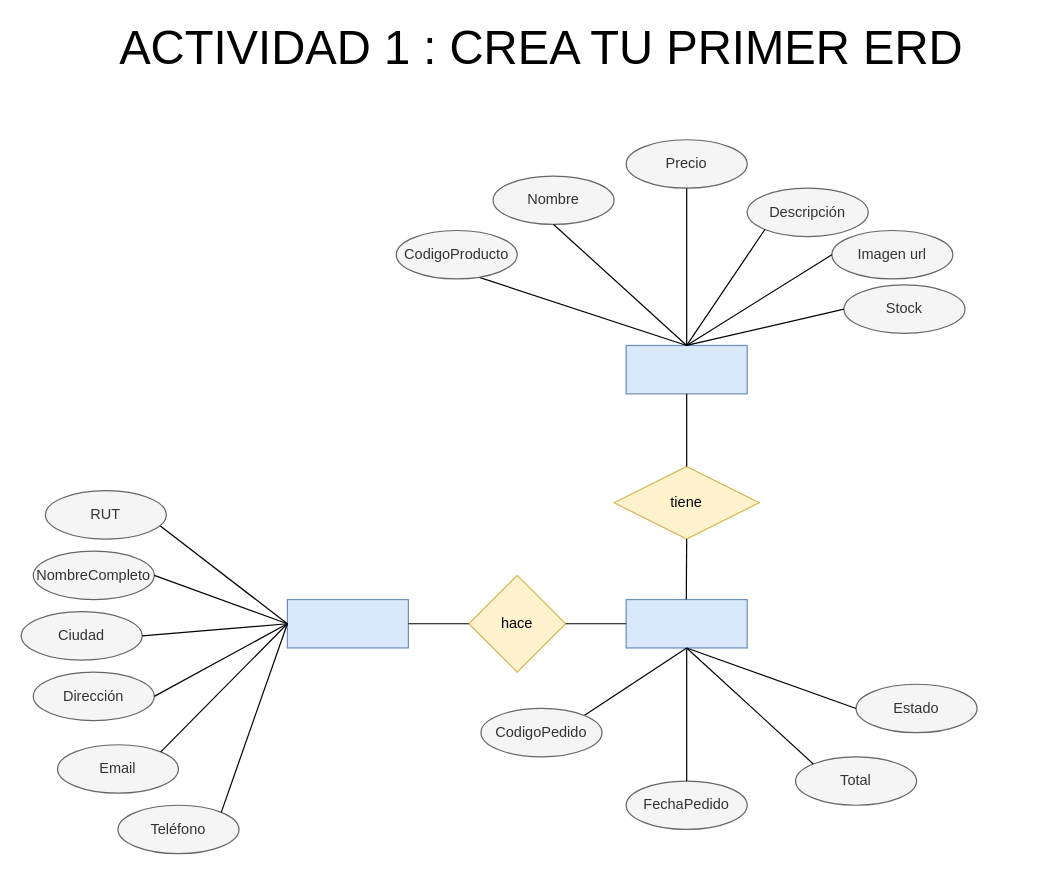
This 1059x875 diagram has some shape labels left out. The centre of each missing label's shape, as x and y in pixels:
"CLIENTE" goes at point (347, 623).
"PEDIDOS" goes at point (686, 623).
"PRODUCTO" goes at point (686, 369).
